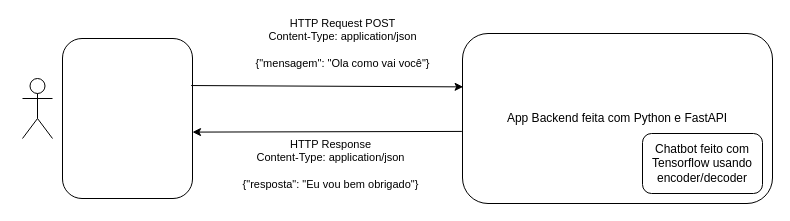
Image size: 790x221. Some labels were removed from this diagram. The box of each missing label's shape, as (x1, y1, x2, y2) in pixels:
App Front End: (62, 38, 192, 198)
Usuario: (22, 78, 52, 138)
